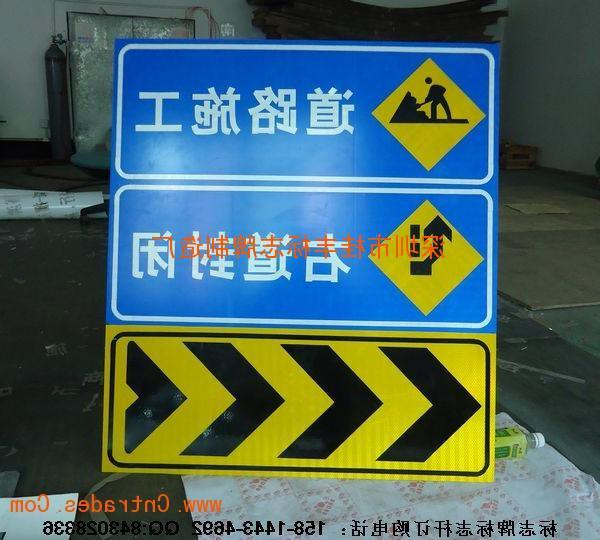sign: (100, 42, 497, 479)
